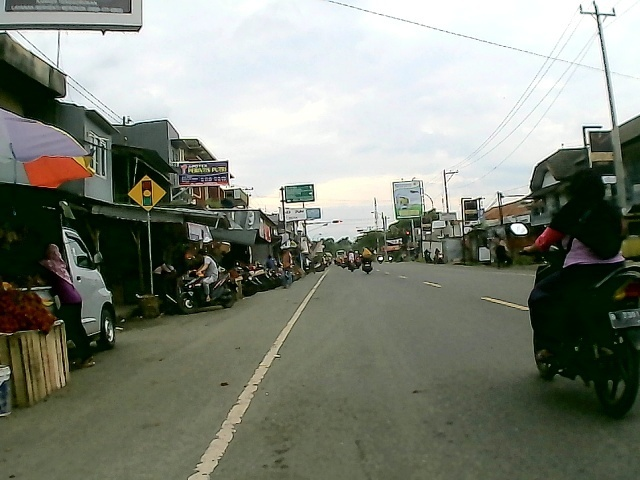Lampu isyarat: (125, 173, 167, 216)
